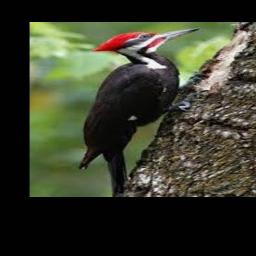Woodpecker: (79, 27, 201, 196)
